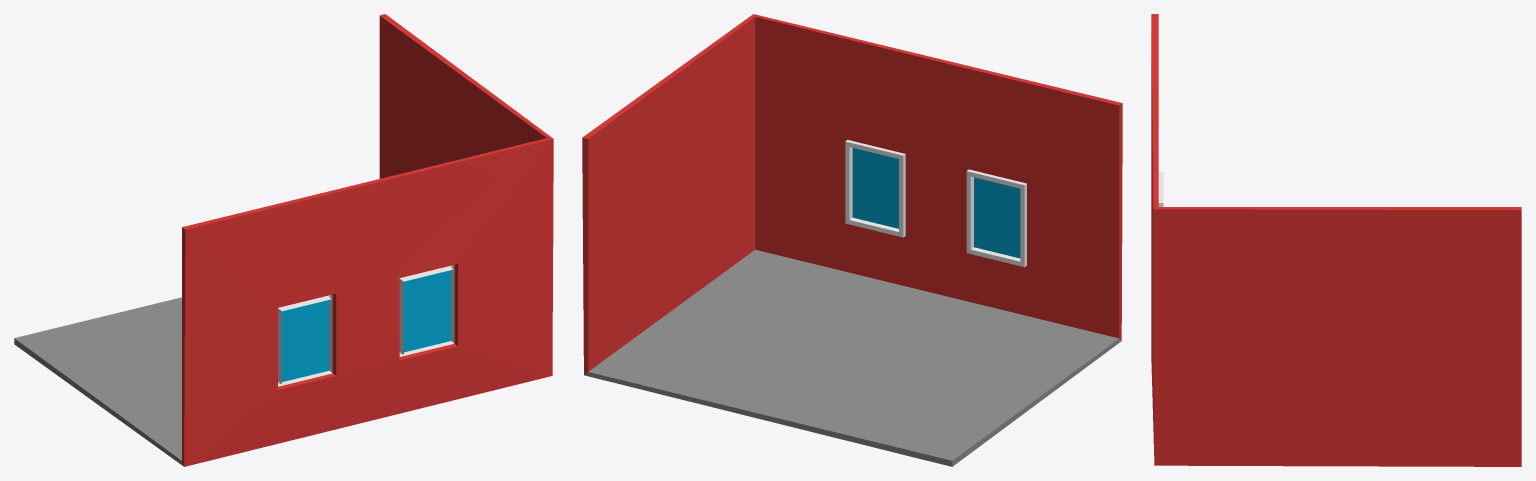
Rendered from RoomDemoUV.fbx.
3 views of the same model, side by side, from view 1: azimuth 30°, elevation 25°; view 2: azimuth 150°, elevation 25°; view 3: azimuth 270°, elevation 25° (orthographic). The views are drawn at different scales.
Visible parts, largest first — view 1: Wall2, Floor, Wall1, Glass, Window Frames; view 2: Wall2, Floor, Wall1, Glass, Window Frames; view 3: Wall1, Wall2.
Part boxes in pixels (bbox=[...]): Wall2: bbox=[182, 138, 553, 466]; Floor: bbox=[14, 297, 183, 466]; Wall1: bbox=[379, 14, 553, 178]; Glass: bbox=[282, 270, 451, 381]; Window Frames: bbox=[278, 265, 454, 386]; Wall2: bbox=[753, 14, 1122, 340]; Floor: bbox=[584, 249, 1121, 466]; Wall1: bbox=[582, 14, 755, 374]; Glass: bbox=[852, 148, 1020, 258]; Window Frames: bbox=[845, 140, 1026, 267]; Wall1: bbox=[1153, 207, 1521, 466]; Wall2: bbox=[1151, 14, 1158, 455].
Size of the model in its own units: 499 by 308 by 398.
